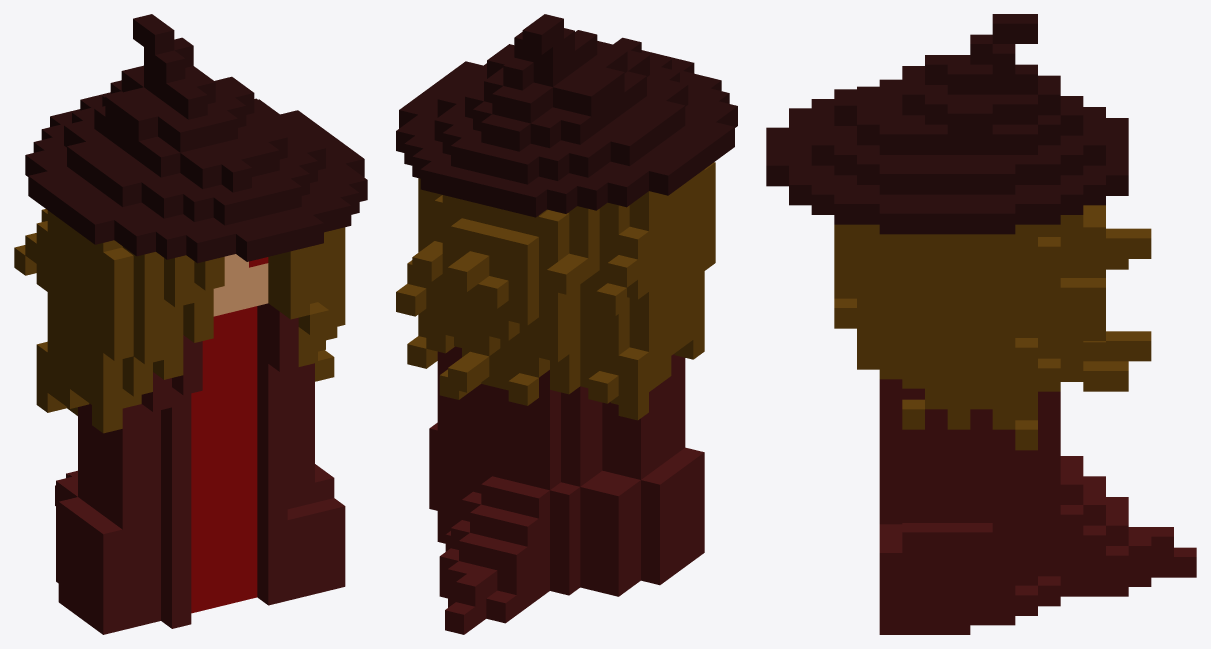
The model's file is Bruxa 02 - Andando-02.obj.
The picture shows the model from 3 angles, left to right: view 1: azimuth 30°, elevation 25°; view 2: azimuth 150°, elevation 25°; view 3: azimuth 270°, elevation 25°; orthographic projection.
Bounding box in the file's own units: 14 × 27 × 19.
Materials: 1 (1 with a texture image).
